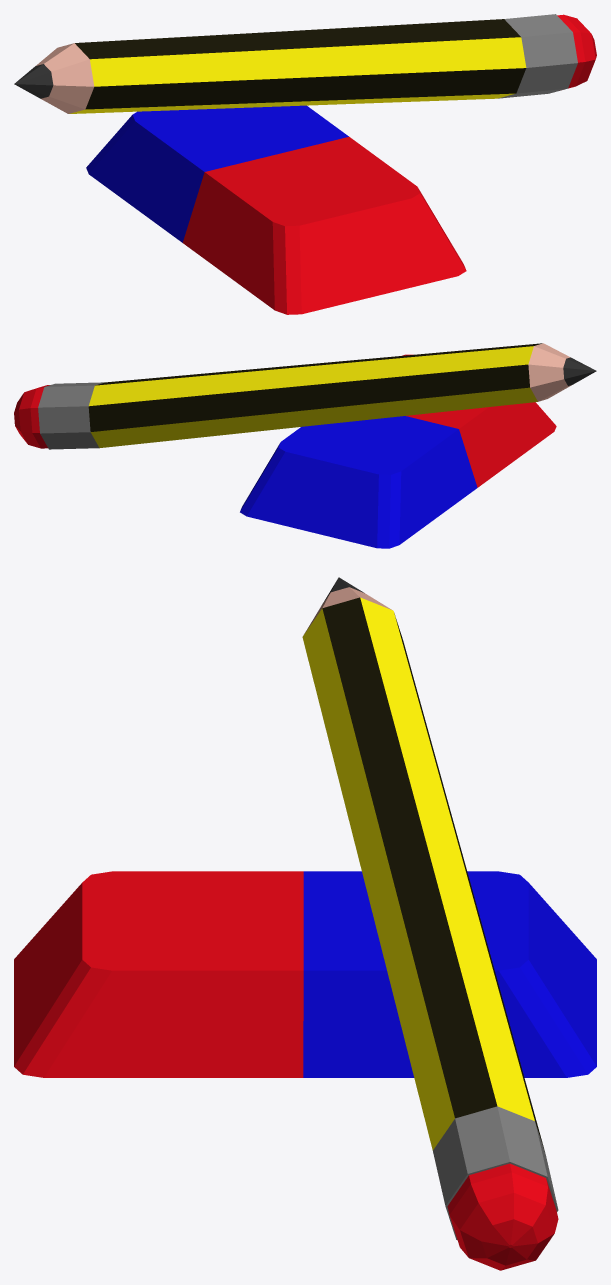
The model's file is Lapiz y goma.fbx.
The picture shows the model from 3 angles, top to bottom: view 1: azimuth 30°, elevation 25°; view 2: azimuth 150°, elevation 25°; view 3: azimuth 270°, elevation 25°; orthographic projection. The views are drawn at different scales.
Parts seen in each view (by area): view 1: Cube, Lapiz; view 2: Lapiz, Cube; view 3: Cube, Lapiz.
Boxes of the visible parts, x1=… form: Cube: x1=86, y1=105, x2=466, y2=314; Lapiz: x1=14, y1=14, x2=596, y2=113; Lapiz: x1=14, y1=343, x2=596, y2=449; Cube: x1=240, y1=354, x2=556, y2=548; Cube: x1=14, y1=871, x2=596, y2=1077; Lapiz: x1=302, y1=577, x2=558, y2=1270.
Bounding box in the file's own units: 426 × 137 × 241.
